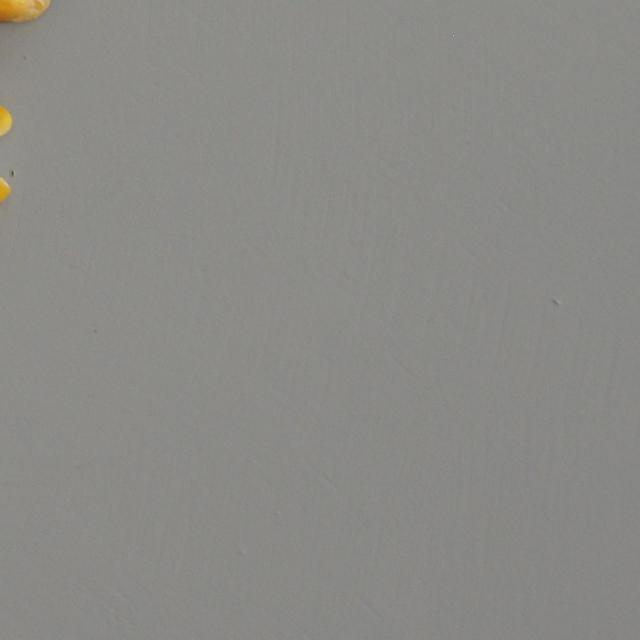dañado: (0, 79, 18, 231), (0, 0, 64, 24)
